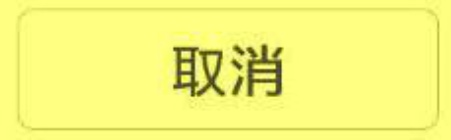Button: (1, 1, 450, 139)
